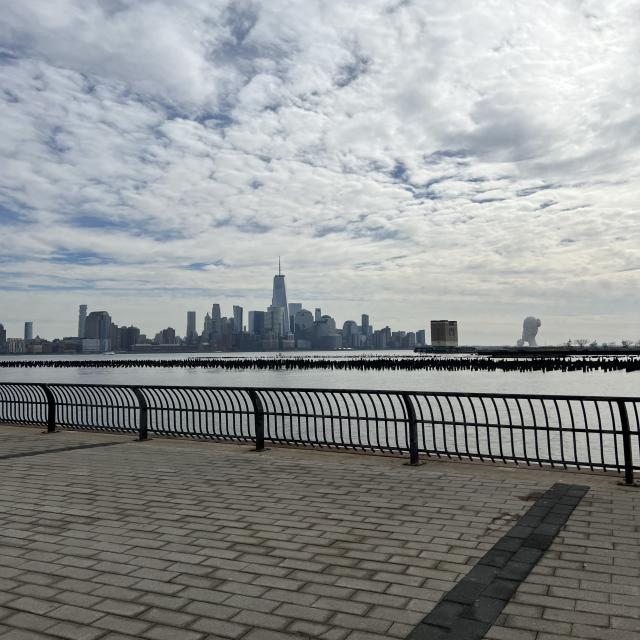WTC: (272, 256, 288, 308)
